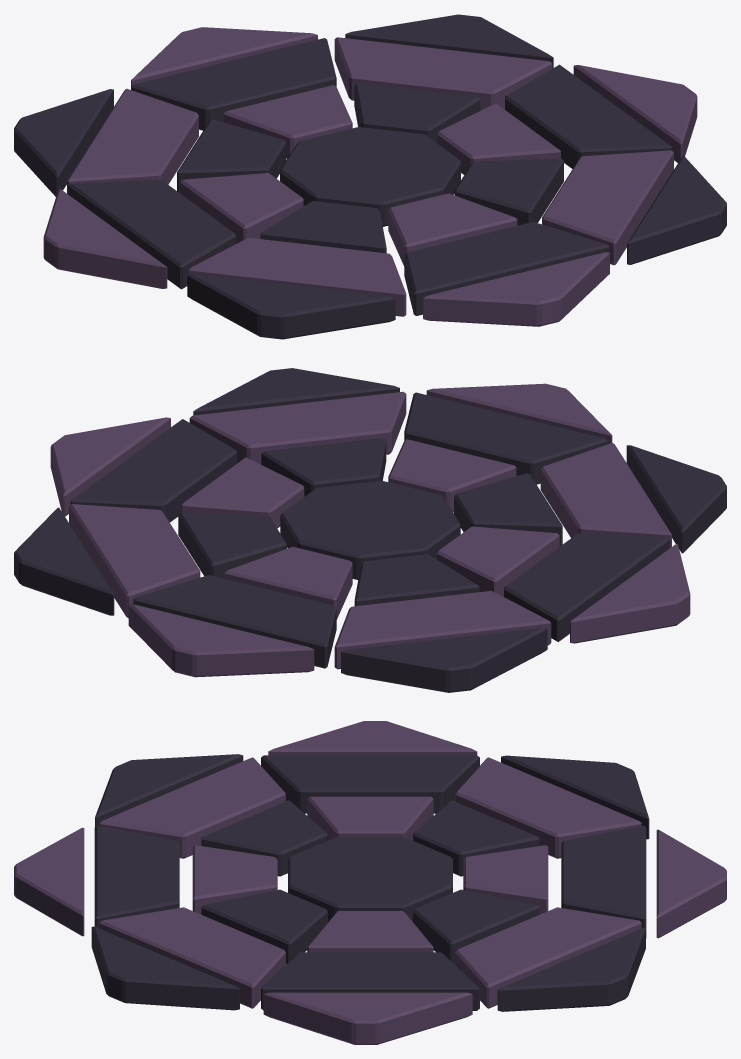
The picture shows the model from 3 angles, top to bottom: view 1: azimuth 30°, elevation 25°; view 2: azimuth 150°, elevation 25°; view 3: azimuth 270°, elevation 25°; orthographic projection. The views are drawn at different scales.
Parts seen in each view (by area): view 1: Mage circle; view 2: Mage circle; view 3: Mage circle.
Boxes of the visible parts, x1,y1,x2,y2 form: Mage circle: [14, 14, 726, 339]; Mage circle: [14, 368, 726, 692]; Mage circle: [14, 721, 726, 1044].
Bounding box in the file's own units: 798 × 30.57 × 798.
